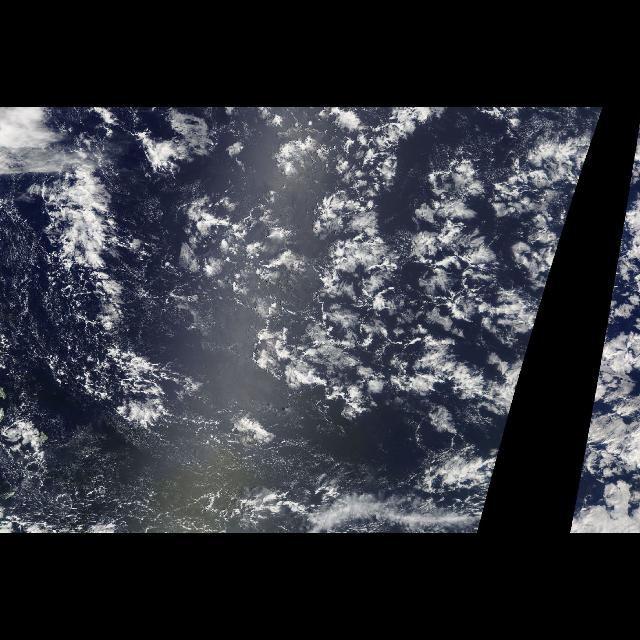Flower: (191, 115, 599, 421), (590, 131, 638, 421)
Gravel: (0, 247, 142, 396)
Sugar: (40, 418, 398, 490)
